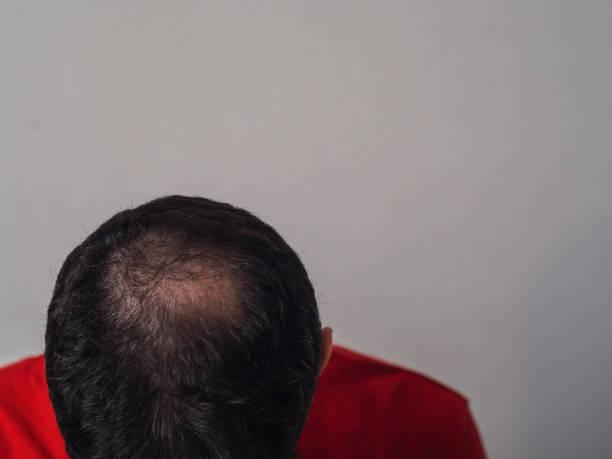low hair density: (108, 240, 254, 333)
